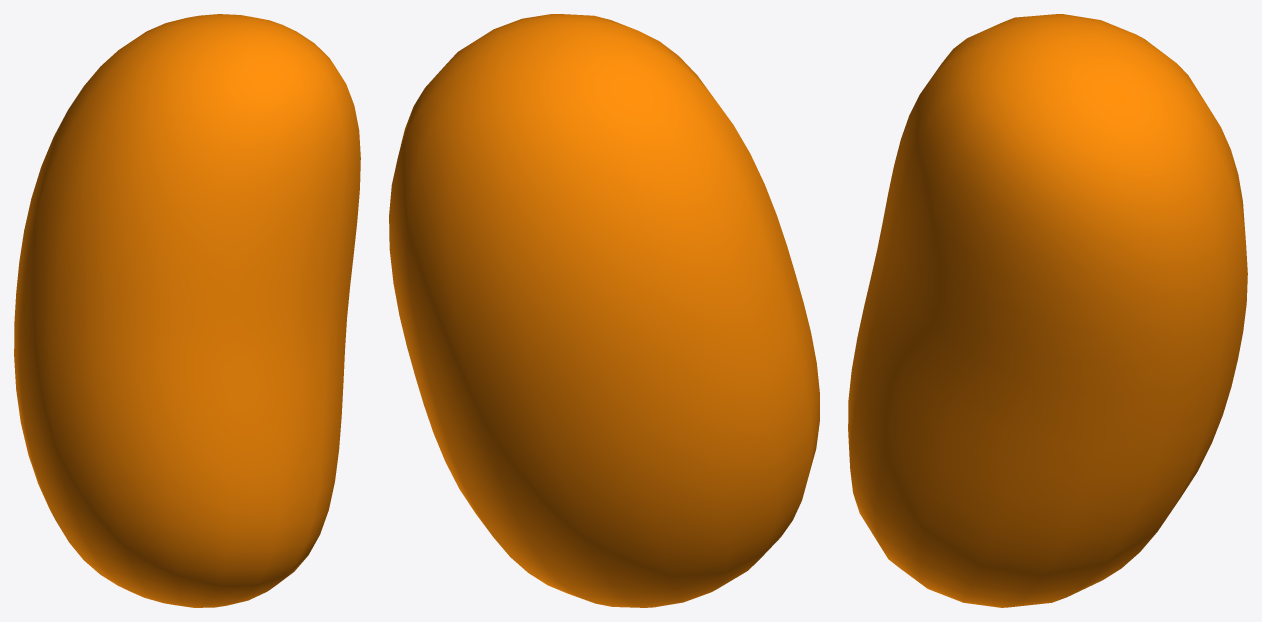
3 views of the same model, side by side, from view 1: azimuth 30°, elevation 25°; view 2: azimuth 150°, elevation 25°; view 3: azimuth 270°, elevation 25° (orthographic). The views are drawn at different scales.
Visible parts, largest first — view 1: JumboJellyBean.033; view 2: JumboJellyBean.033; view 3: JumboJellyBean.033.
Boxes of the visible parts, left/top/right/bottom form: JumboJellyBean.033: left=14, top=14, right=360, bottom=607; JumboJellyBean.033: left=389, top=14, right=819, bottom=607; JumboJellyBean.033: left=848, top=14, right=1247, bottom=607.
Size of the model in its own units: 0.6996 by 1.09 by 0.6752.
